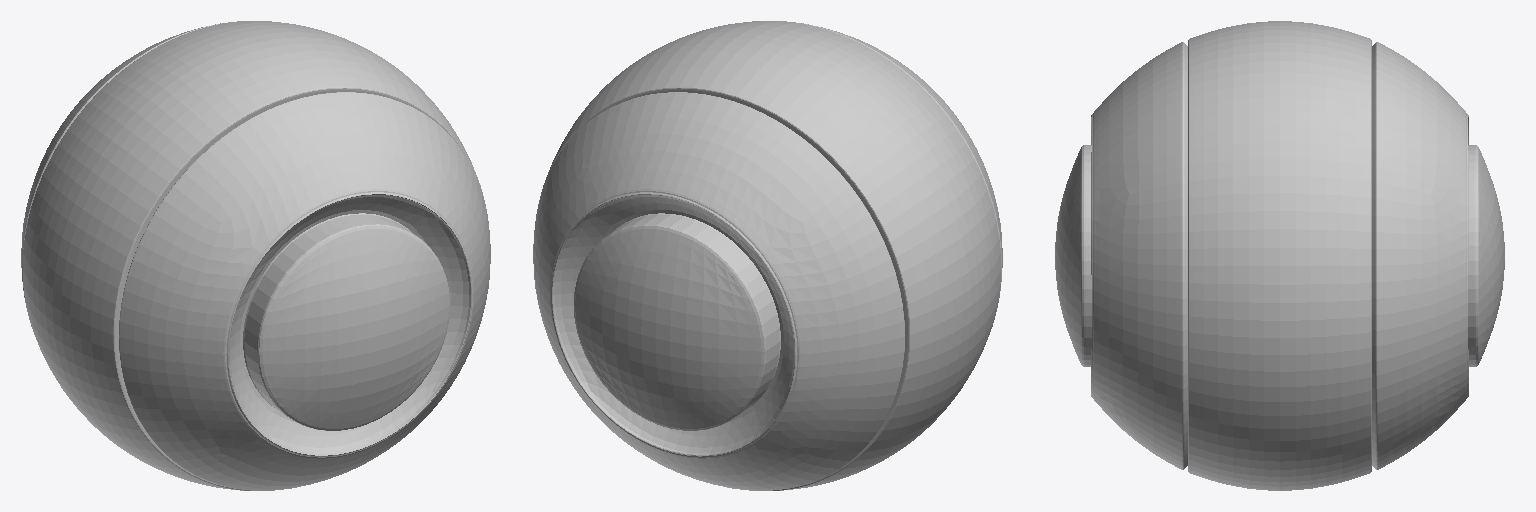
The model's file is vertexcol_mix_sphere.obj.
3 renders of one model, left to right at view 1: azimuth 30°, elevation 25°; view 2: azimuth 150°, elevation 25°; view 3: azimuth 270°, elevation 25°, orthographic.
Visible parts, largest first — view 1: off; view 2: off; view 3: off.
Boxes of the visible parts, x1=… form: off: x1=21, y1=21, x2=490, y2=490; off: x1=533, y1=21, x2=1002, y2=490; off: x1=1055, y1=21, x2=1504, y2=490.
Bounding box in the file's own units: 1.99 × 1.99 × 1.9.